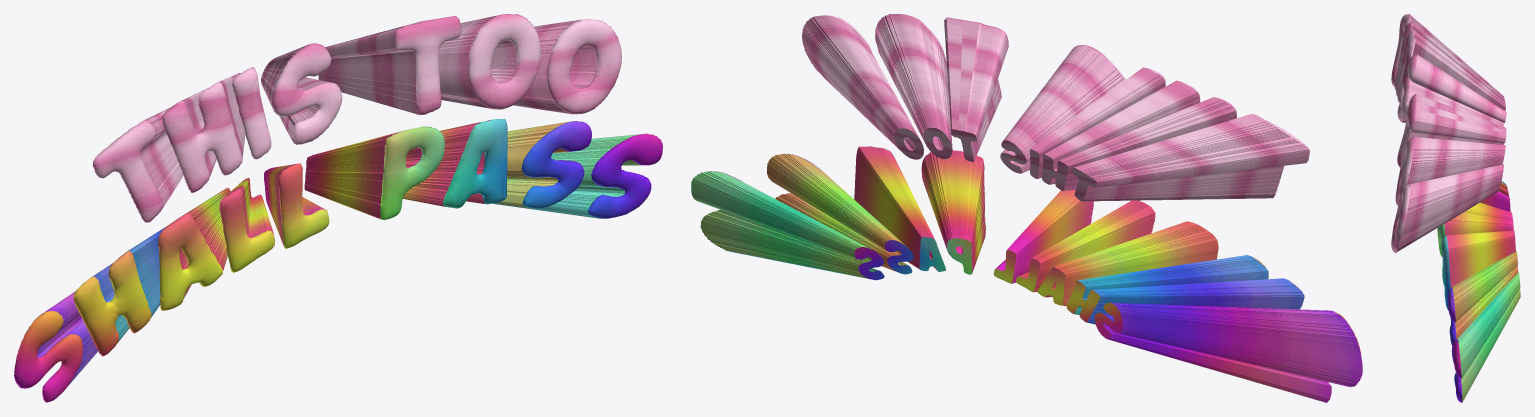
File: HandRainbowText3.gltf
3 renders of one model, left to right at view 1: azimuth 30°, elevation 25°; view 2: azimuth 150°, elevation 25°; view 3: azimuth 270°, elevation 25°, orthographic. The views are drawn at different scales.
Parts seen in each view (by area): view 1: Shall Pass, This too; view 2: Shall Pass, This too; view 3: This too, Shall Pass.
Part boxes in pixels (x1,y1,x2,y2): Shall Pass: (14, 119, 662, 402); This too: (92, 14, 621, 222); Shall Pass: (691, 146, 1362, 402); This too: (802, 14, 1309, 201); This too: (1391, 14, 1506, 252); Shall Pass: (1437, 181, 1520, 402).
Bounding box in the file's own units: 0.3854 × 0.1654 × 0.0824.
2 materials, 2 textured.
